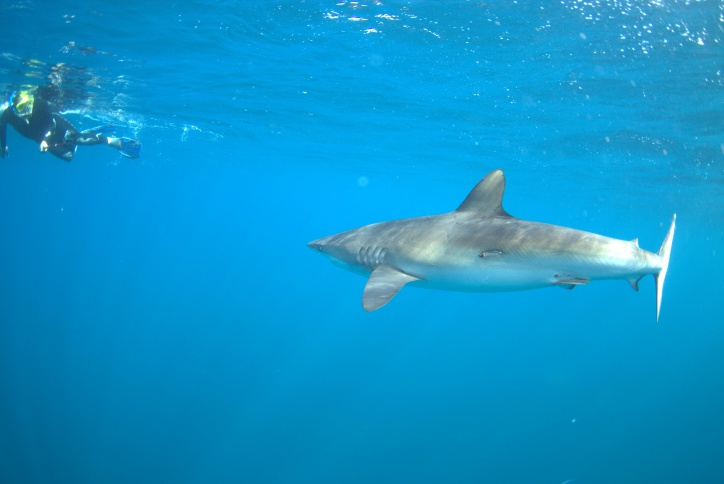Sedoso: (305, 159, 689, 343)
